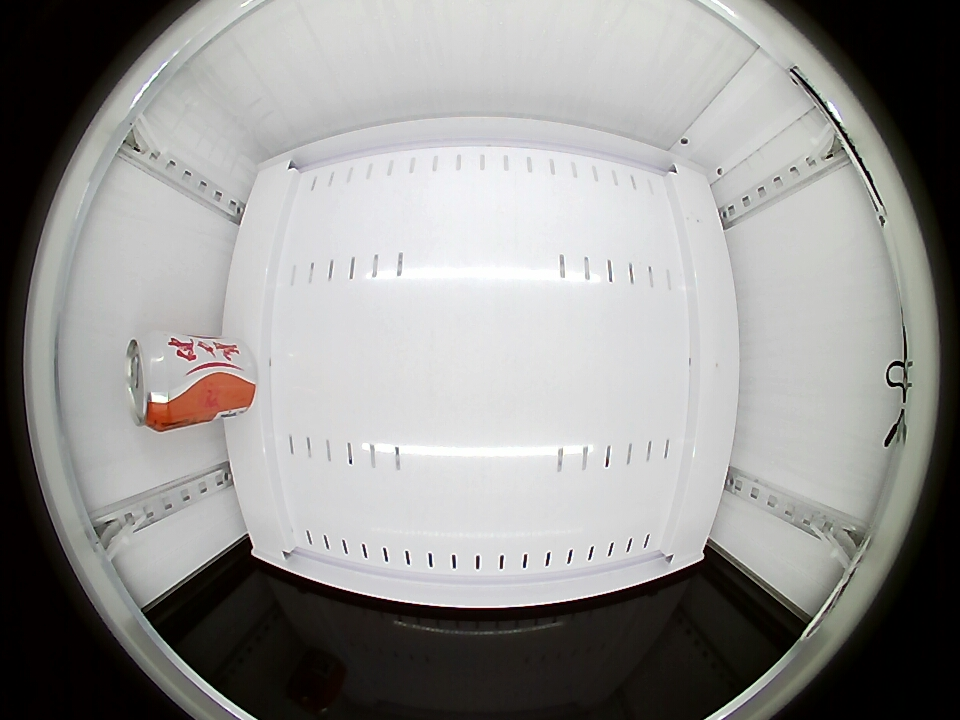jianlibao: (126, 332, 183, 430)
